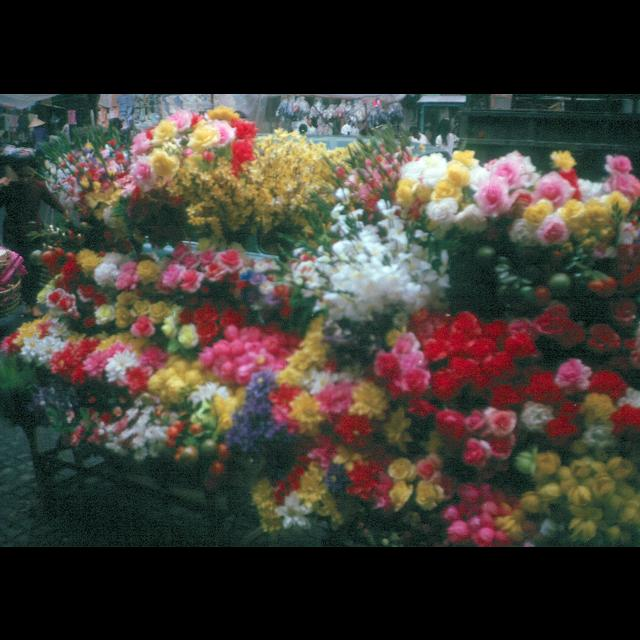Flower: (1, 103, 640, 545)
